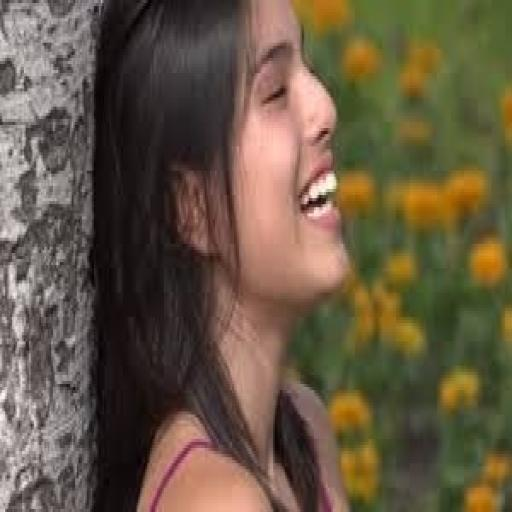laughing: (84, 3, 367, 506)
